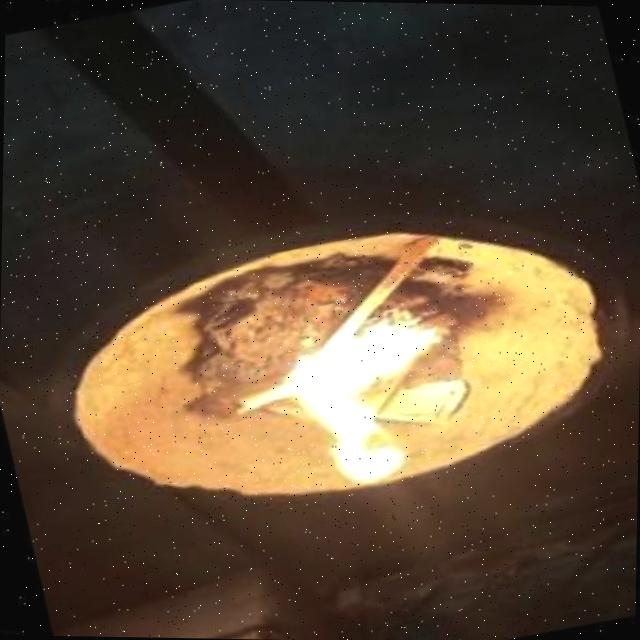fire: (253, 282, 483, 505)
